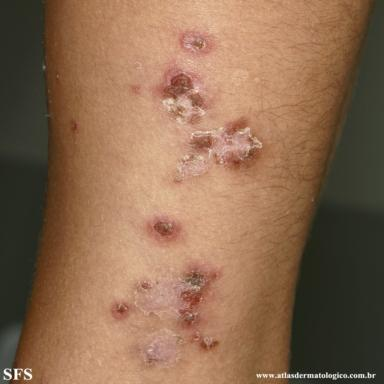Impetigo: (111, 261, 222, 371), (170, 115, 266, 184), (156, 67, 212, 127), (143, 215, 187, 249), (180, 30, 216, 56)
